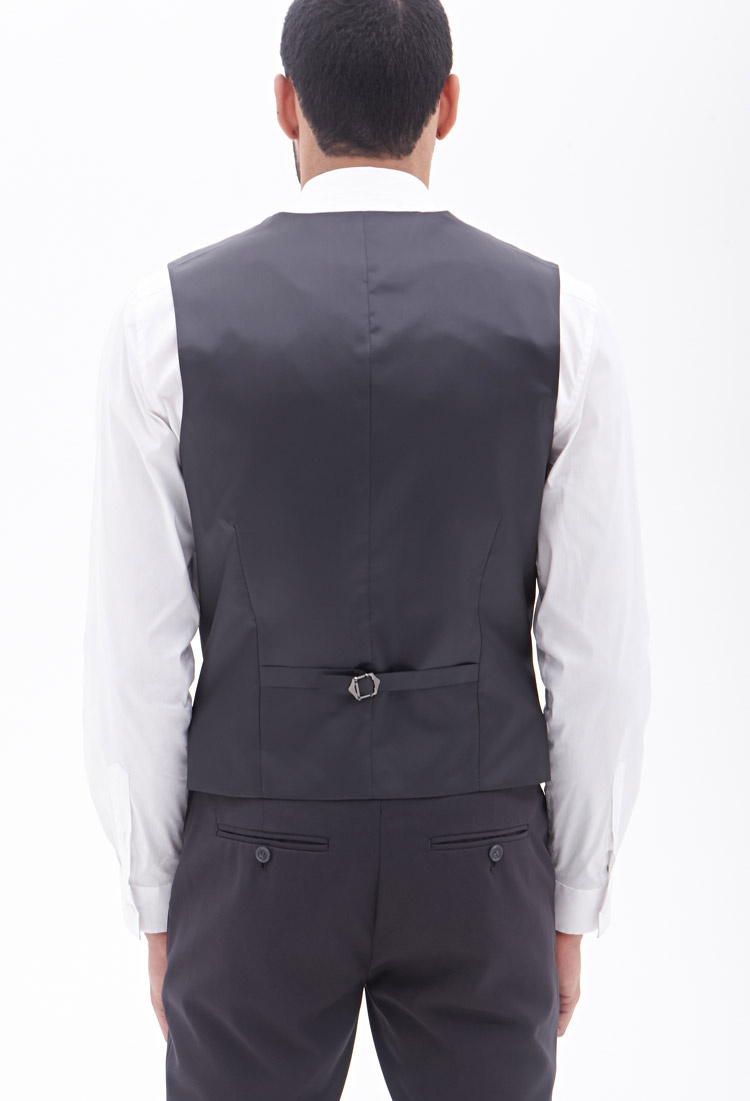F_dress pants: (148, 776, 571, 1087)
F_shirt: (67, 161, 650, 940)
F_waistcoat: (164, 211, 574, 803)
